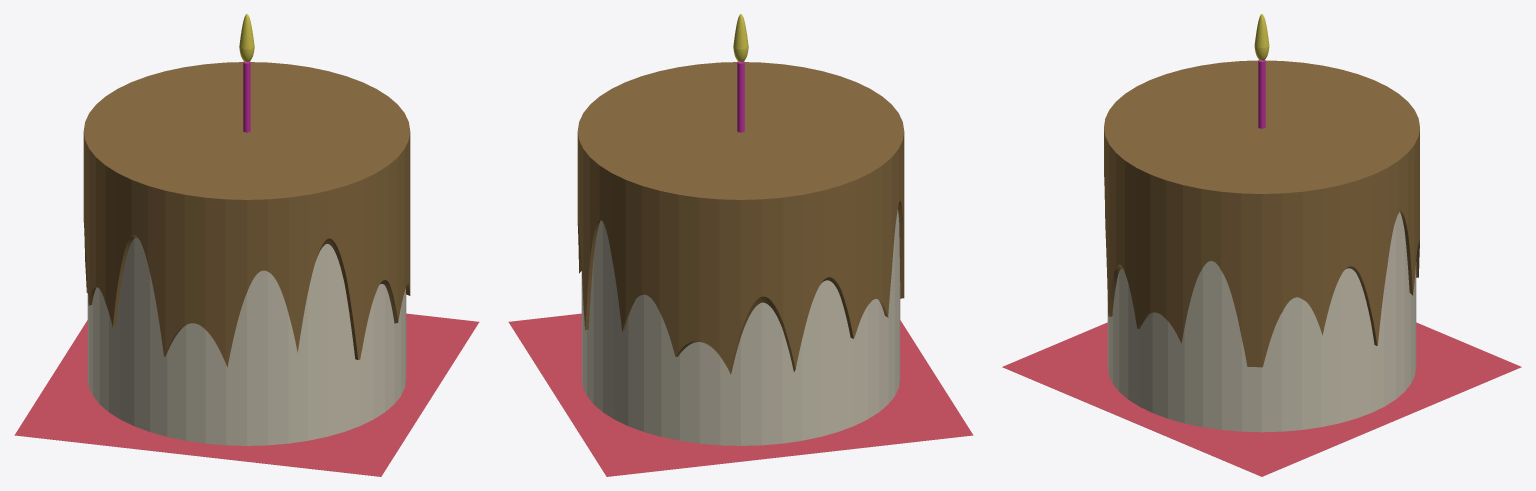
The model's file is vanilla.glb.
The picture shows the model from 3 angles, left to right: view 1: azimuth 30°, elevation 25°; view 2: azimuth 150°, elevation 25°; view 3: azimuth 270°, elevation 25°; orthographic projection. The views are drawn at different scales.
Parts seen in each view (by area): view 1: Mesh_Mesh_head_geo.001_lambert2SG.001; view 2: Mesh_Mesh_head_geo.001_lambert2SG.001; view 3: Mesh_Mesh_head_geo.001_lambert2SG.001.
Boxes of the visible parts, <box> form: Mesh_Mesh_head_geo.001_lambert2SG.001: <box>14,14,479,476</box>; Mesh_Mesh_head_geo.001_lambert2SG.001: <box>508,14,973,476</box>; Mesh_Mesh_head_geo.001_lambert2SG.001: <box>1002,14,1521,476</box>.
Bounding box in the file's own units: 0.0354 × 0.0265 × 0.0354.
